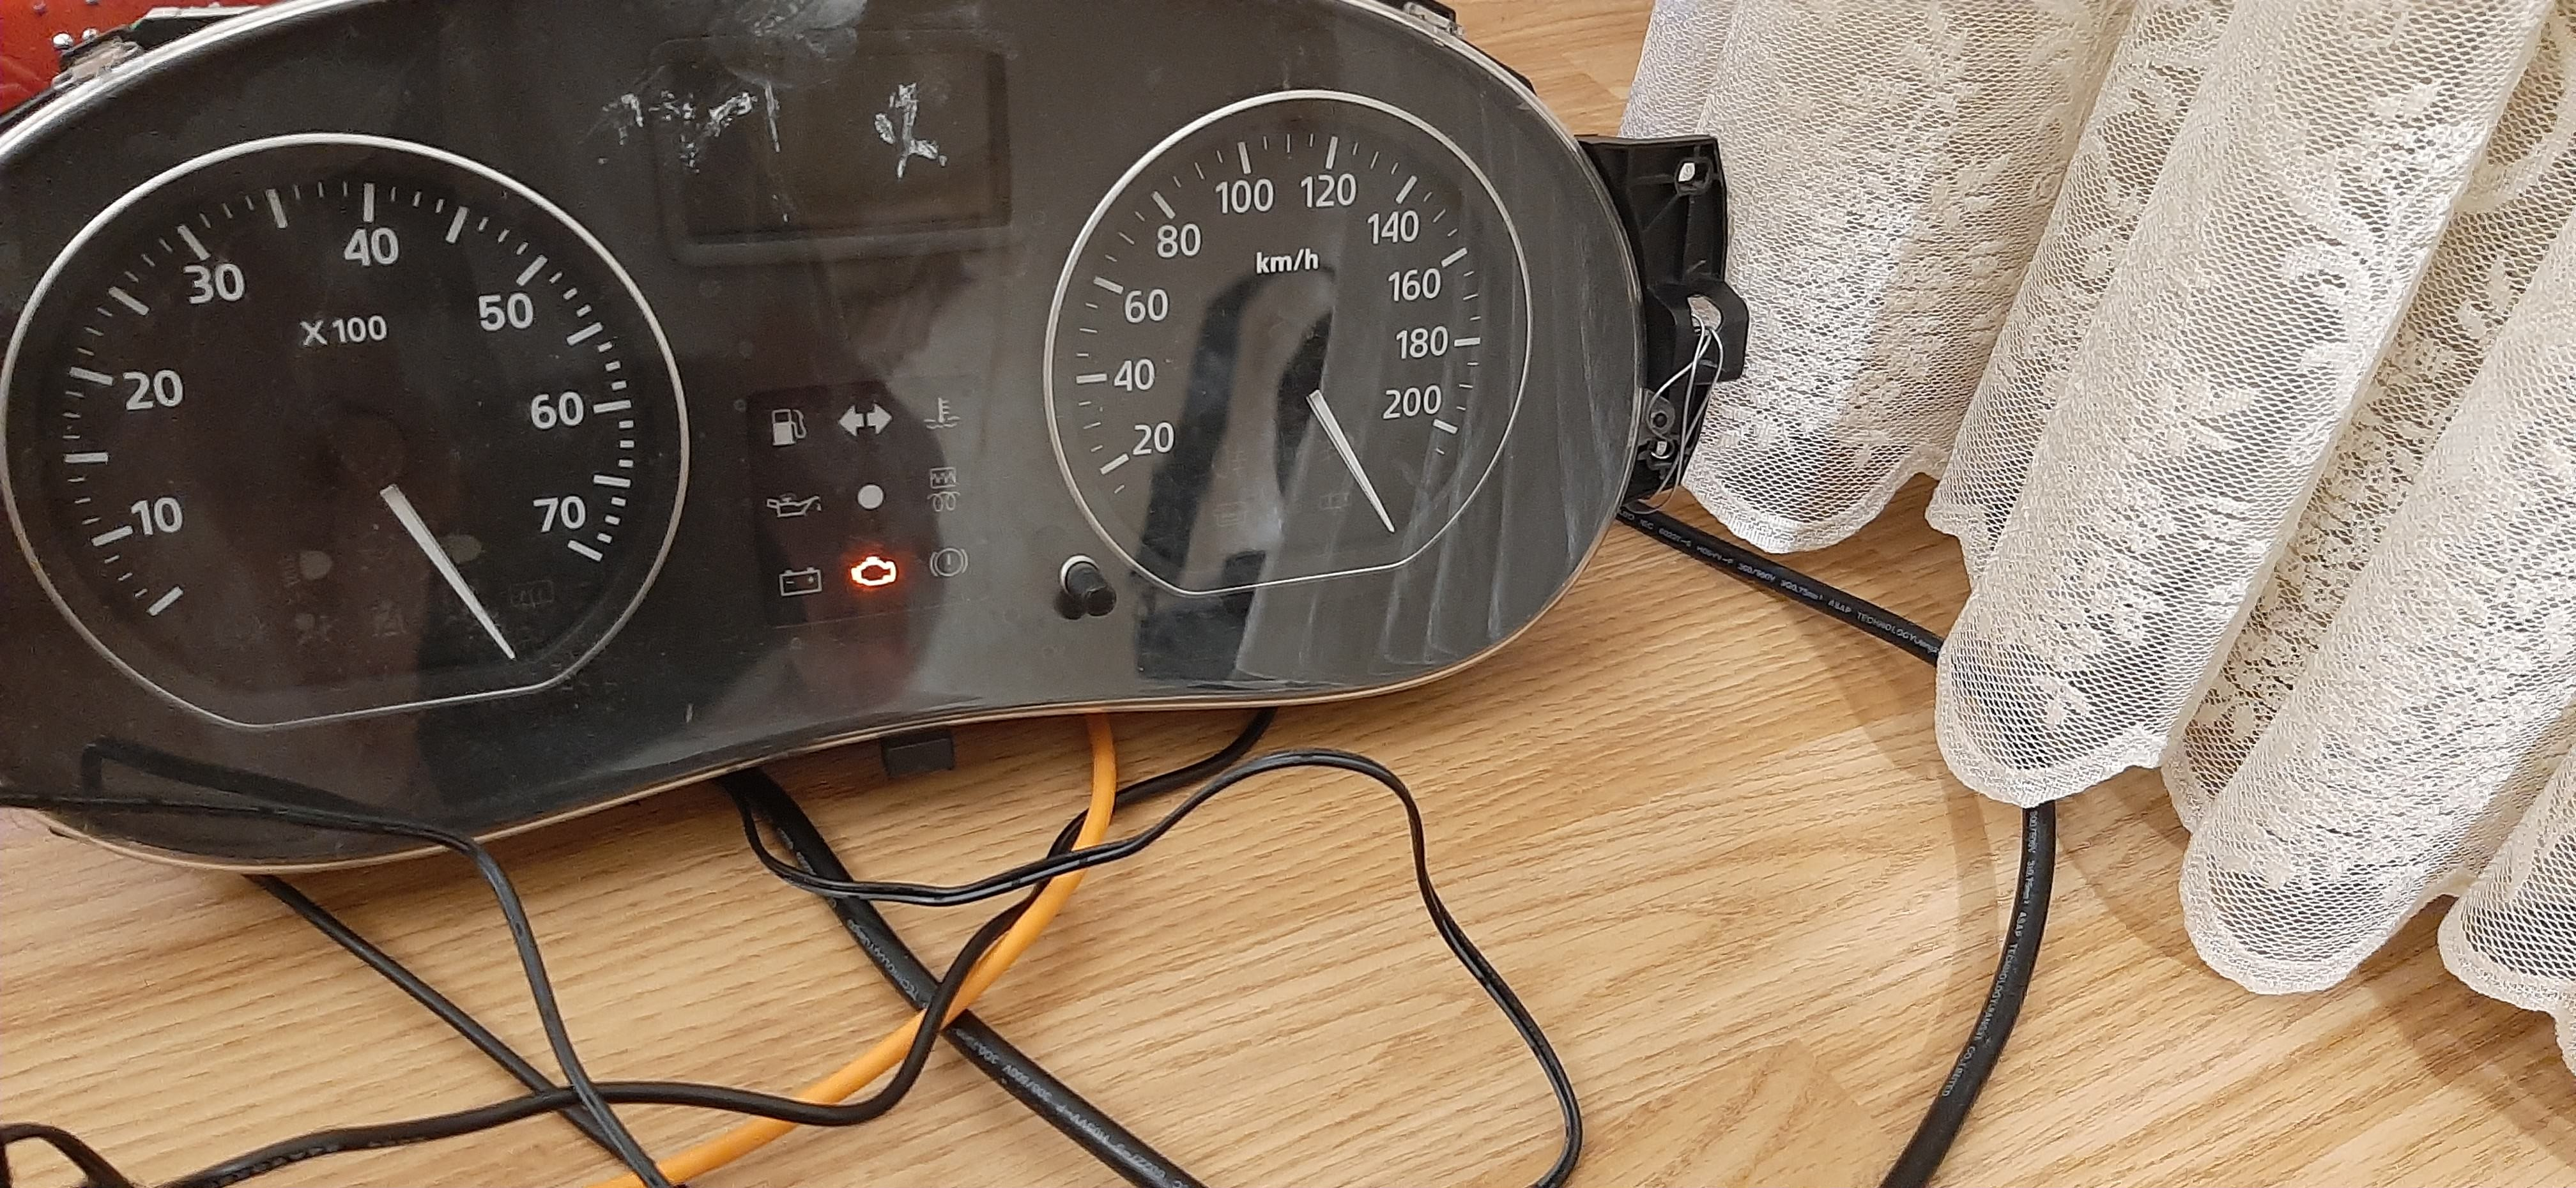engine23: (848, 554, 899, 588)
